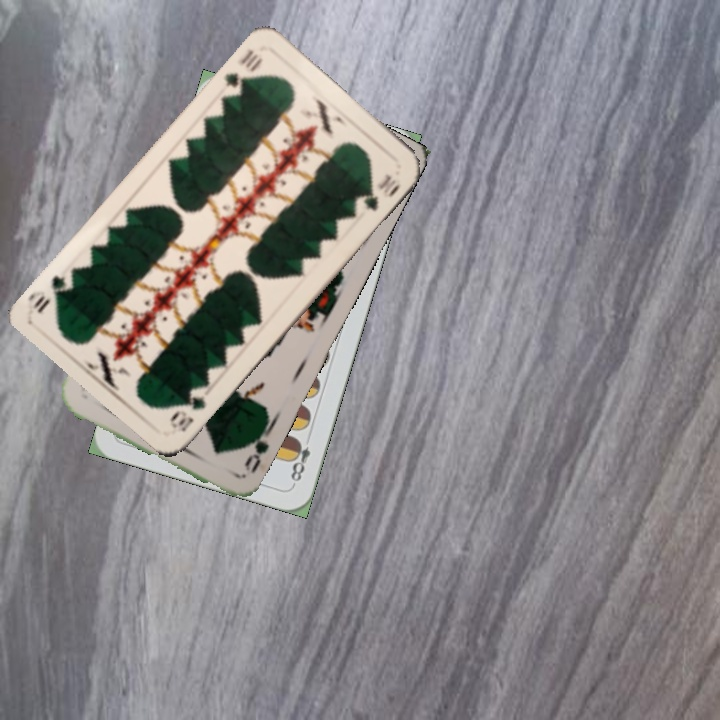E8: (286, 435, 314, 487)
G10: (220, 45, 266, 100), (165, 391, 208, 435)
GO: (240, 420, 276, 476)
